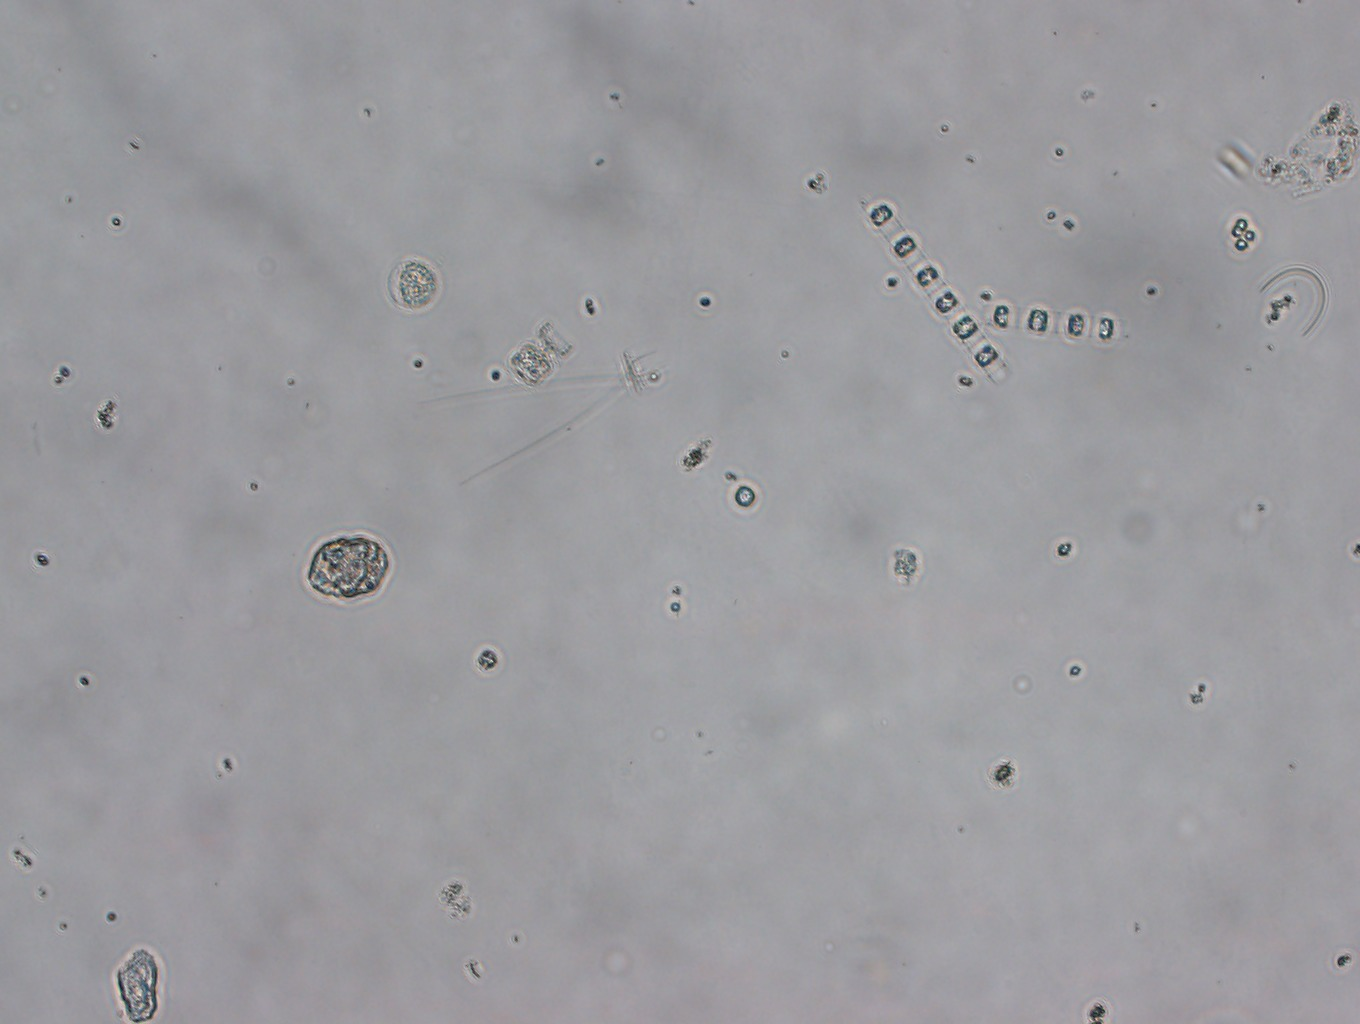skeletonema: (863, 195, 1016, 392), (983, 299, 1122, 350)
